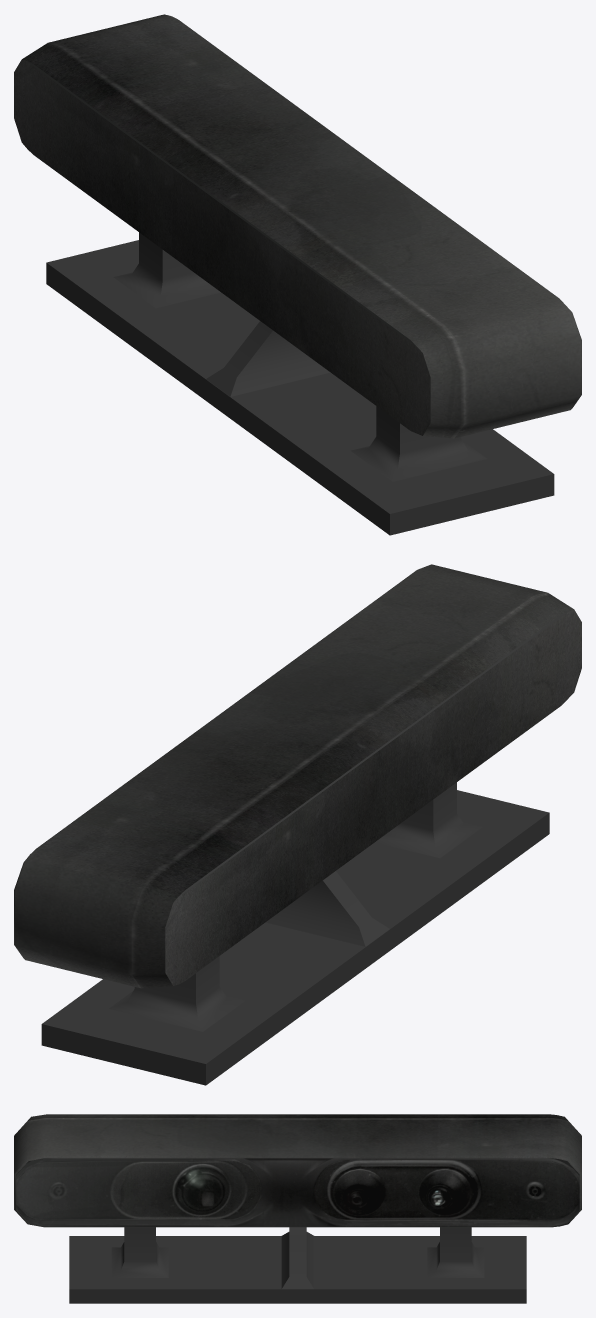
File: Xtion.dae
The picture shows the model from 3 angles, top to bottom: view 1: azimuth 30°, elevation 25°; view 2: azimuth 150°, elevation 25°; view 3: azimuth 270°, elevation 25°; orthographic projection. The views are drawn at different scales.
Parts seen in each view (by area): view 1: Xtion; view 2: Xtion; view 3: Xtion.
Part boxes in pixels (x1,y1,x2,y2): Xtion: [14, 14, 581, 535]; Xtion: [14, 564, 581, 1085]; Xtion: [14, 1114, 581, 1303].
Size of the model in its own units: 0.04 by 0.18 by 0.05.
Materials: 2 (1 with a texture image).
